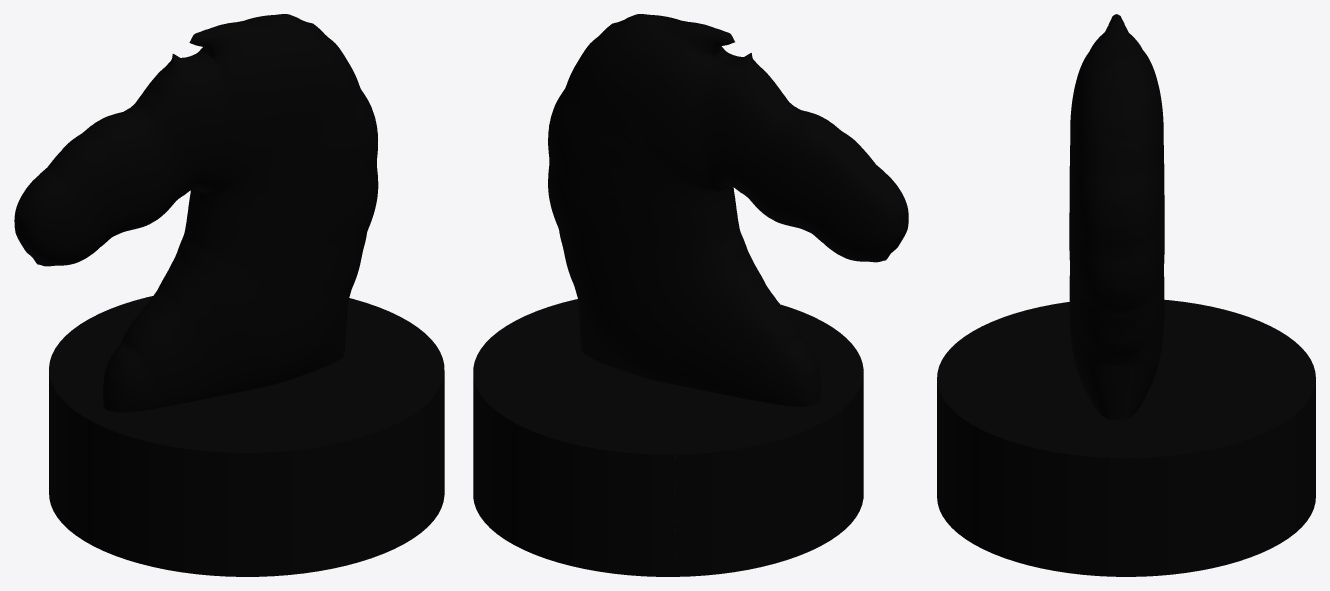
File: knight.fbx
3 renders of one model, left to right at view 1: azimuth 30°, elevation 25°; view 2: azimuth 150°, elevation 25°; view 3: azimuth 270°, elevation 25°, orthographic. The views are drawn at different scales.
Parts seen in each view (by area): view 1: node_id8, node_id6; view 2: node_id8, node_id6; view 3: node_id6, node_id8.
Part boxes in pixels (<box>): node_id8: <box>14,14,378,412</box>; node_id6: <box>49,296,444,576</box>; node_id8: <box>548,14,908,406</box>; node_id6: <box>473,299,863,576</box>; node_id6: <box>937,299,1315,576</box>; node_id8: <box>1069,14,1164,420</box>.
Bounding box in the file's own units: 0.4545 × 0.512 × 0.3838.
2 materials, 2 textured.
